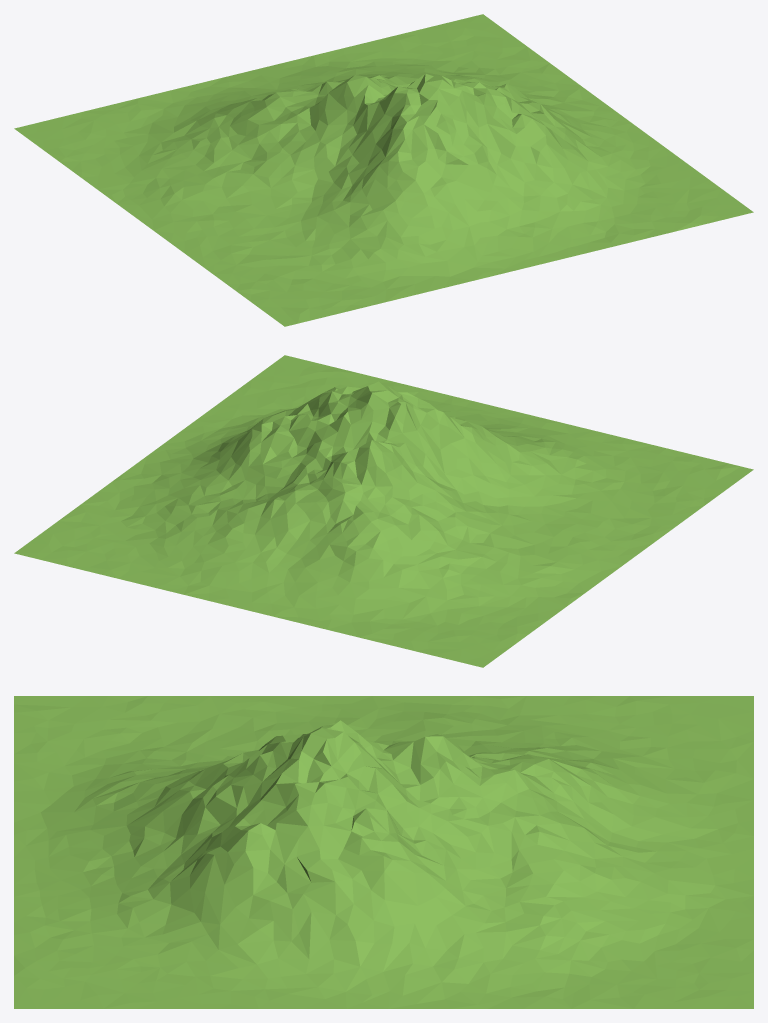
Rendered from MT_Terrain_L_a_47.fbx.
3 views of the same model, one above another, from view 1: azimuth 30°, elevation 25°; view 2: azimuth 150°, elevation 25°; view 3: azimuth 270°, elevation 25° (orthographic). The views are drawn at different scales.
Visible parts, largest first — view 1: MT_Terrain_L_a_47; view 2: MT_Terrain_L_a_47; view 3: MT_Terrain_L_a_47.
Part boxes in pixels (x1=…): MT_Terrain_L_a_47: x1=14, y1=14, x2=753, y2=326; MT_Terrain_L_a_47: x1=14, y1=355, x2=753, y2=667; MT_Terrain_L_a_47: x1=14, y1=696, x2=753, y2=1008.
Size of the model in its own units: 10000 by 2101 by 10000.
